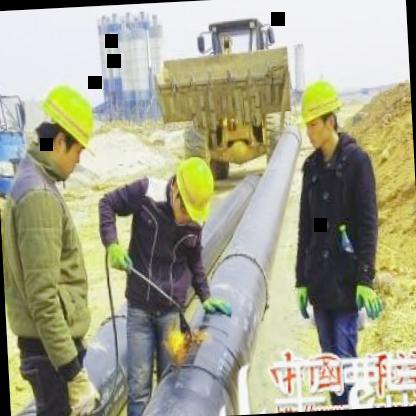helmet: (30, 74, 104, 184), (296, 70, 346, 154), (168, 149, 220, 221)
